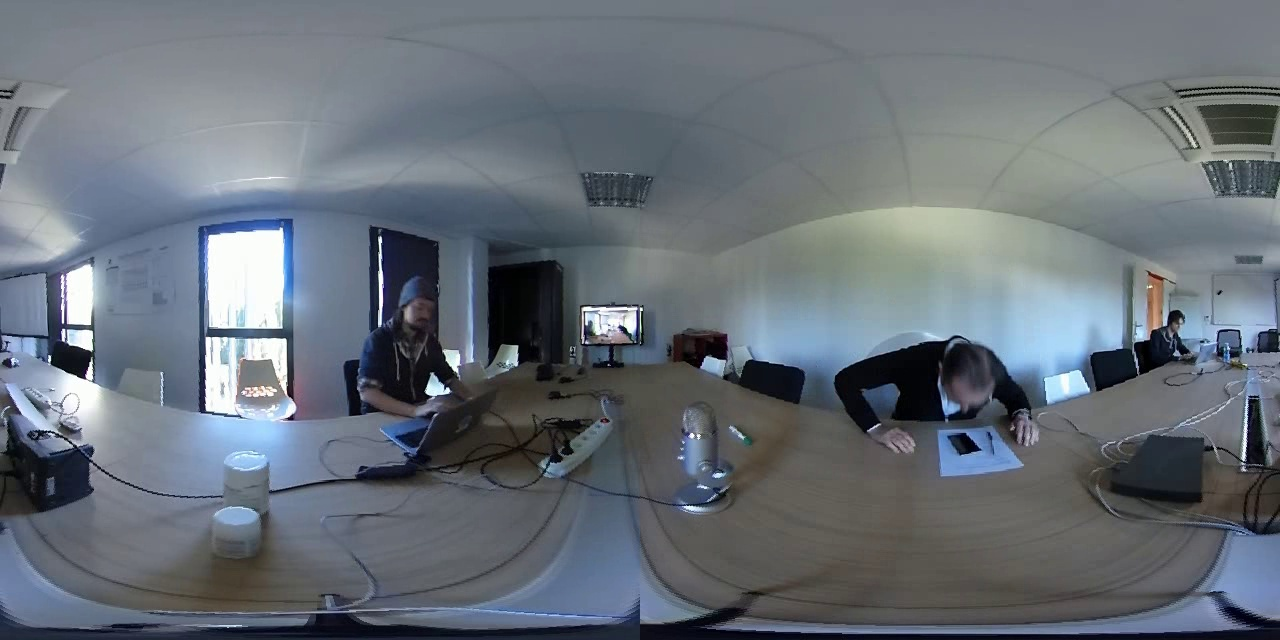person: (840, 327, 1052, 446), (367, 270, 464, 403), (1144, 300, 1214, 358)
